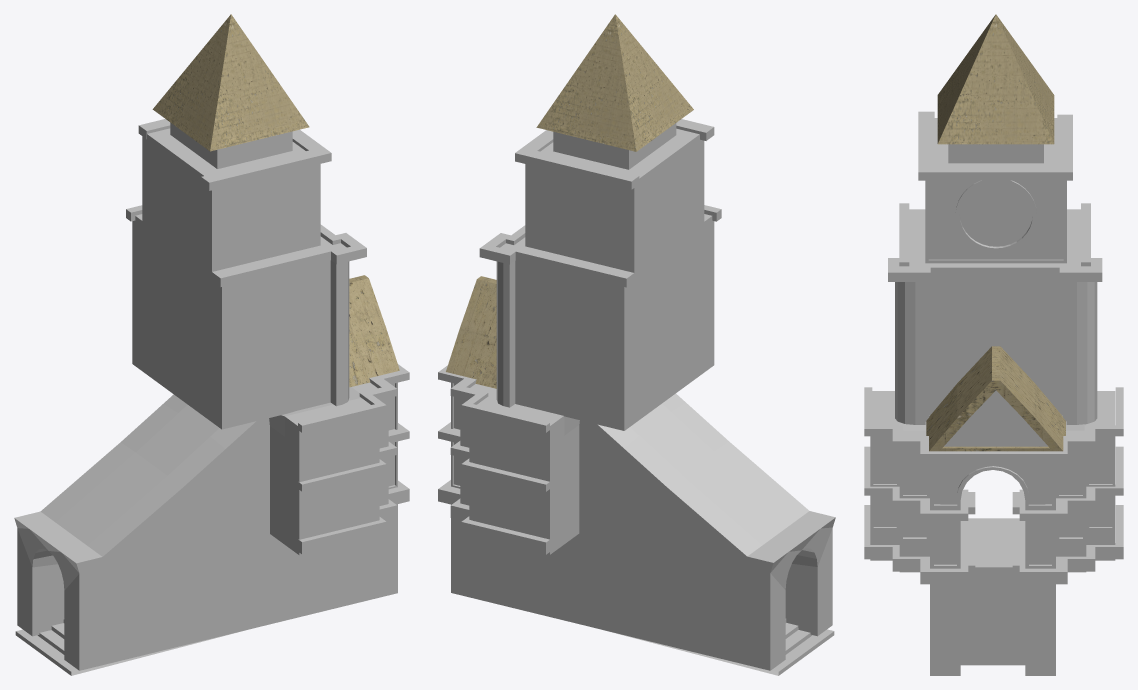
File: WatchTower1.fbx
The picture shows the model from 3 angles, left to right: view 1: azimuth 30°, elevation 25°; view 2: azimuth 150°, elevation 25°; view 3: azimuth 270°, elevation 25°; orthographic projection.
Parts seen in each view (by area): view 1: WatchTower; view 2: WatchTower; view 3: WatchTower.
Boxes of the visible parts, x1,y1,x2,y2 form: WatchTower: [14, 14, 409, 675]; WatchTower: [438, 14, 835, 675]; WatchTower: [864, 14, 1123, 675].
Bounding box in the file's own units: 2036 × 3501 × 1368.
